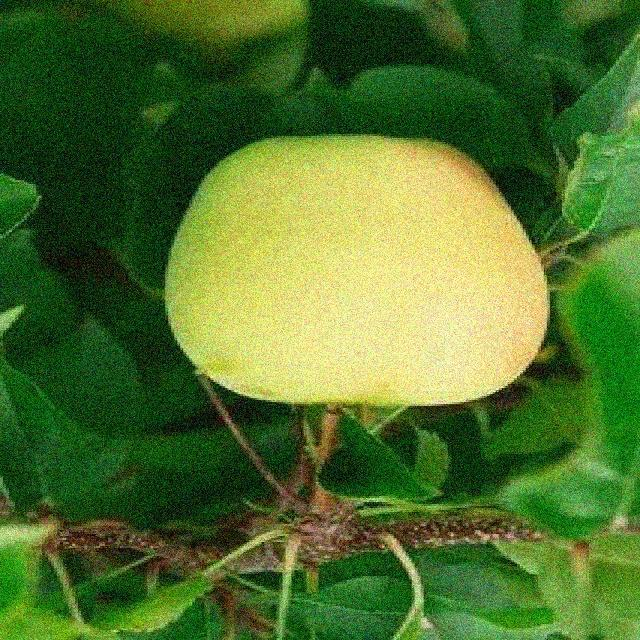green apple: (158, 133, 555, 410)
